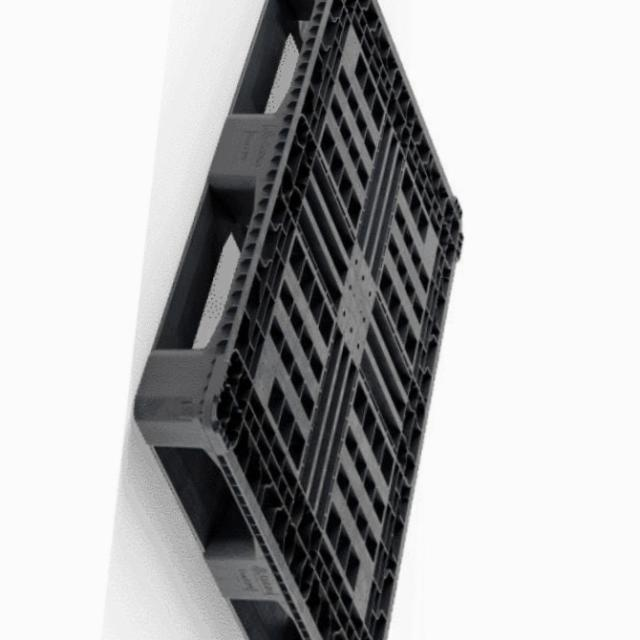non-igps: (125, 0, 469, 640)
